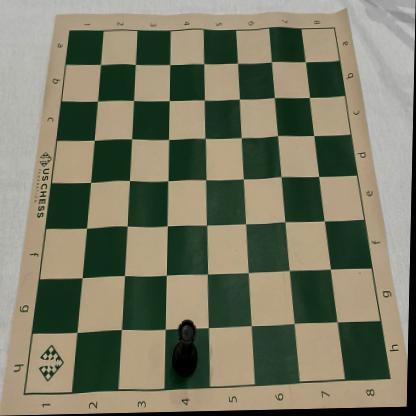black-rook: (172, 319, 202, 379)
